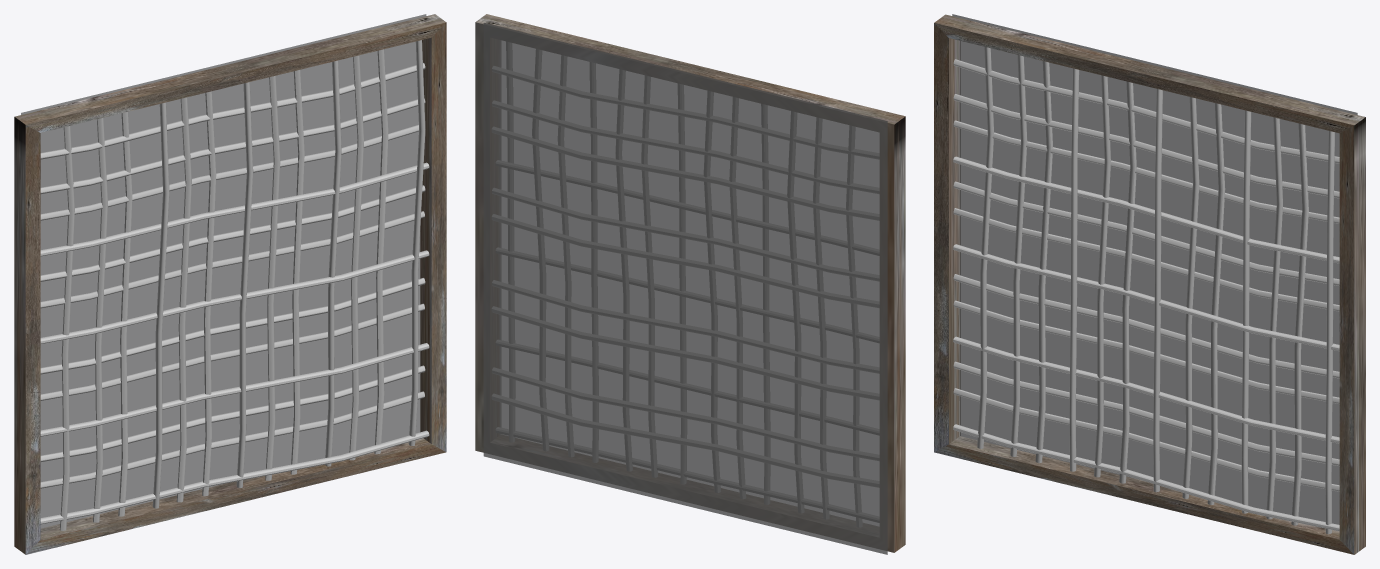
The model's file is VENTANA_ANCHA.fbx.
3 views of the same model, side by side, from view 1: azimuth 30°, elevation 25°; view 2: azimuth 150°, elevation 25°; view 3: azimuth 330°, elevation 25° (orthographic).
Visible parts, largest first — view 1: marco_cavilas.002; view 2: marco_cavilas.002; view 3: marco_cavilas.002.
Part boxes in pixels (<box>): marco_cavilas.002: <box>14,14,446,554</box>; marco_cavilas.002: <box>475,14,905,554</box>; marco_cavilas.002: <box>934,14,1365,554</box>.
Size of the model in its own units: 248 by 246 by 13.64.
